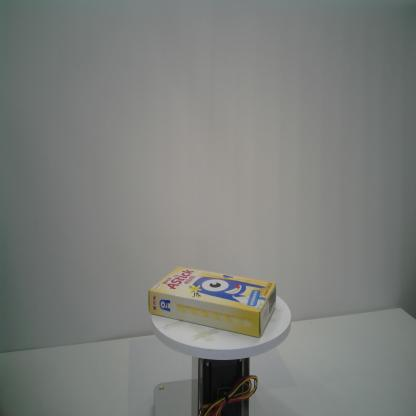Dessert: (148, 264, 277, 338)
